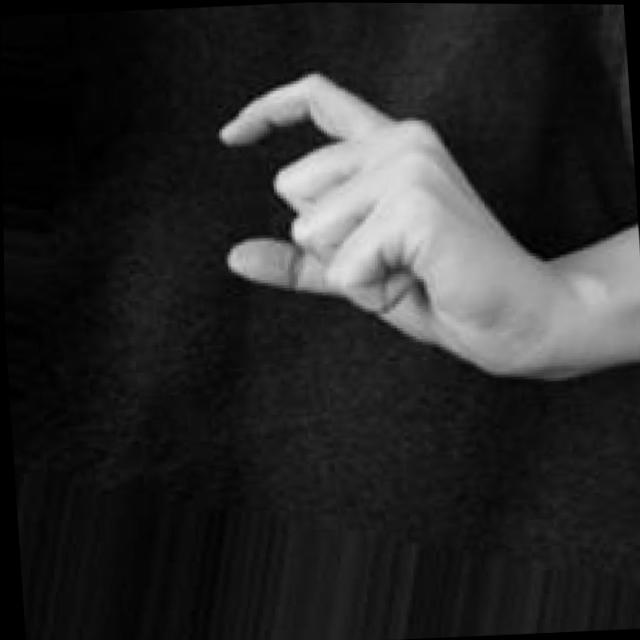C: (206, 49, 587, 401)
